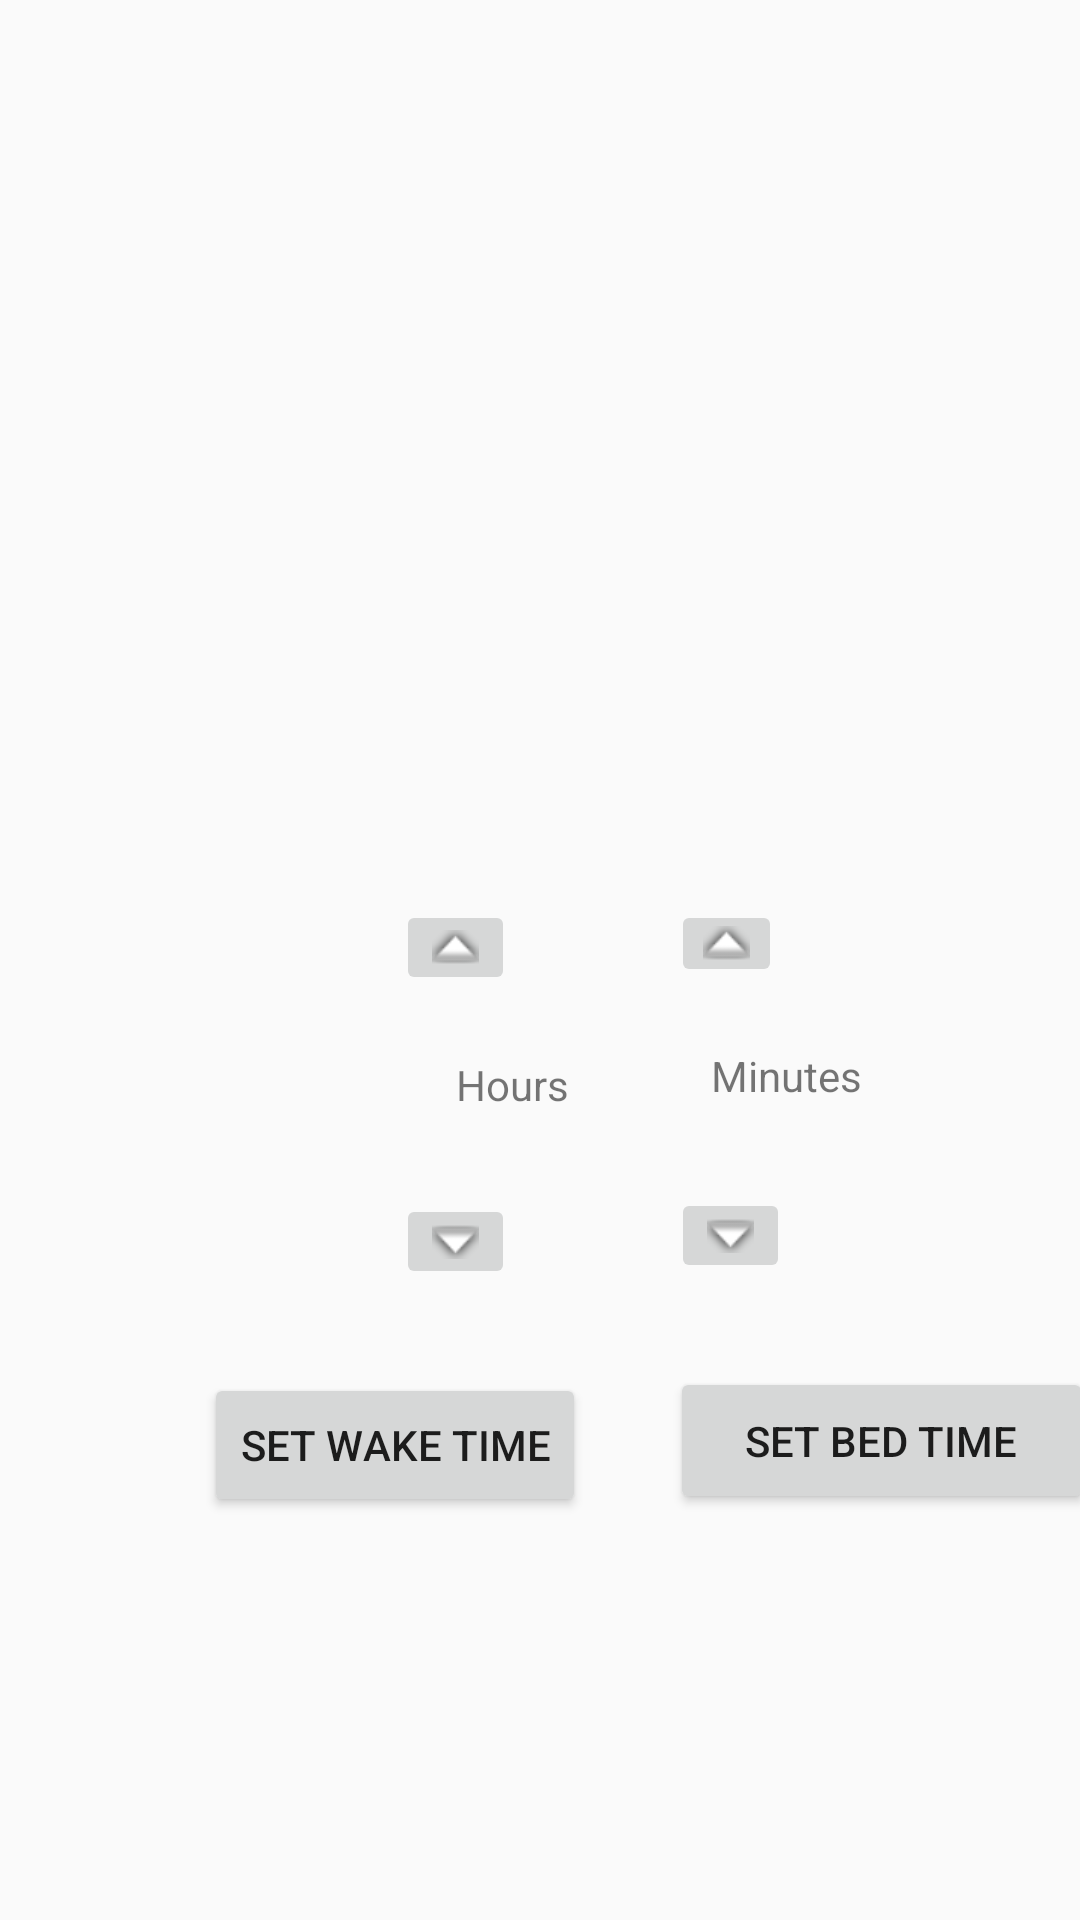

Point at icon controls on the screen. Image size 1080x1920, points as (x=x, y=y).
arrow down float: (x=730, y=1235), (x=455, y=1241)
arrow up float: (x=455, y=947), (x=726, y=943)
